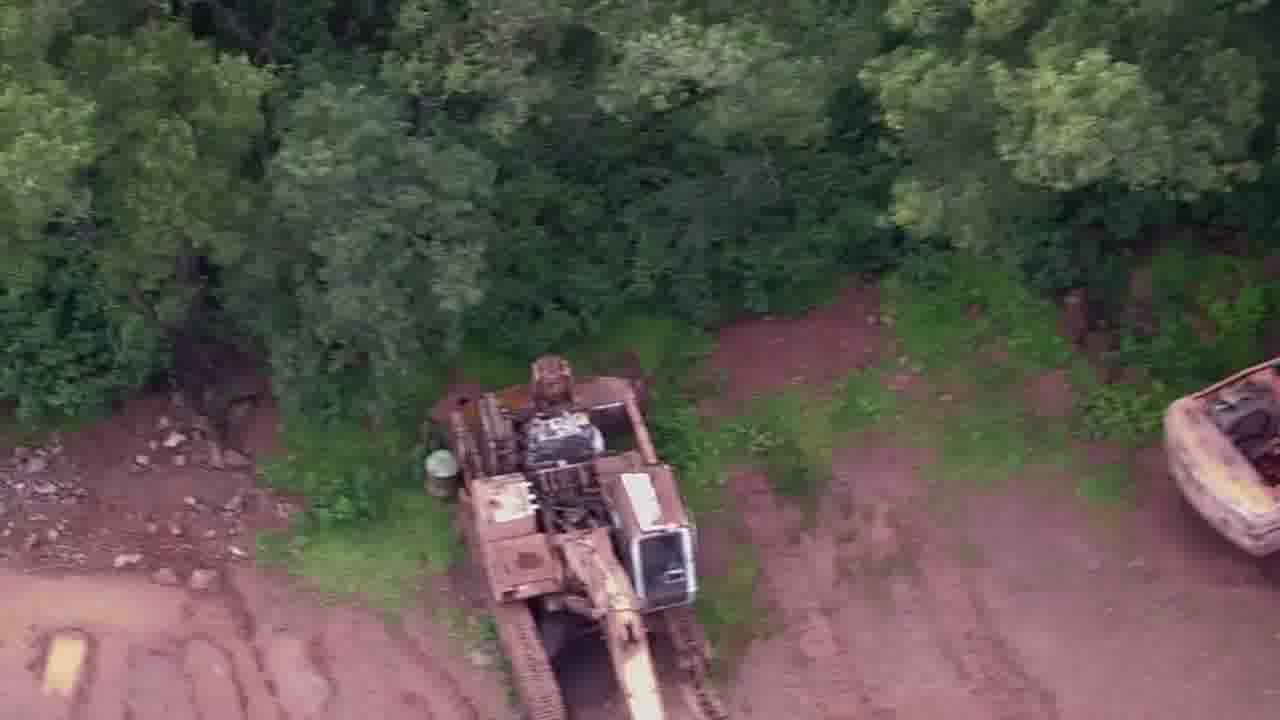HMV: (422, 349, 718, 720)
